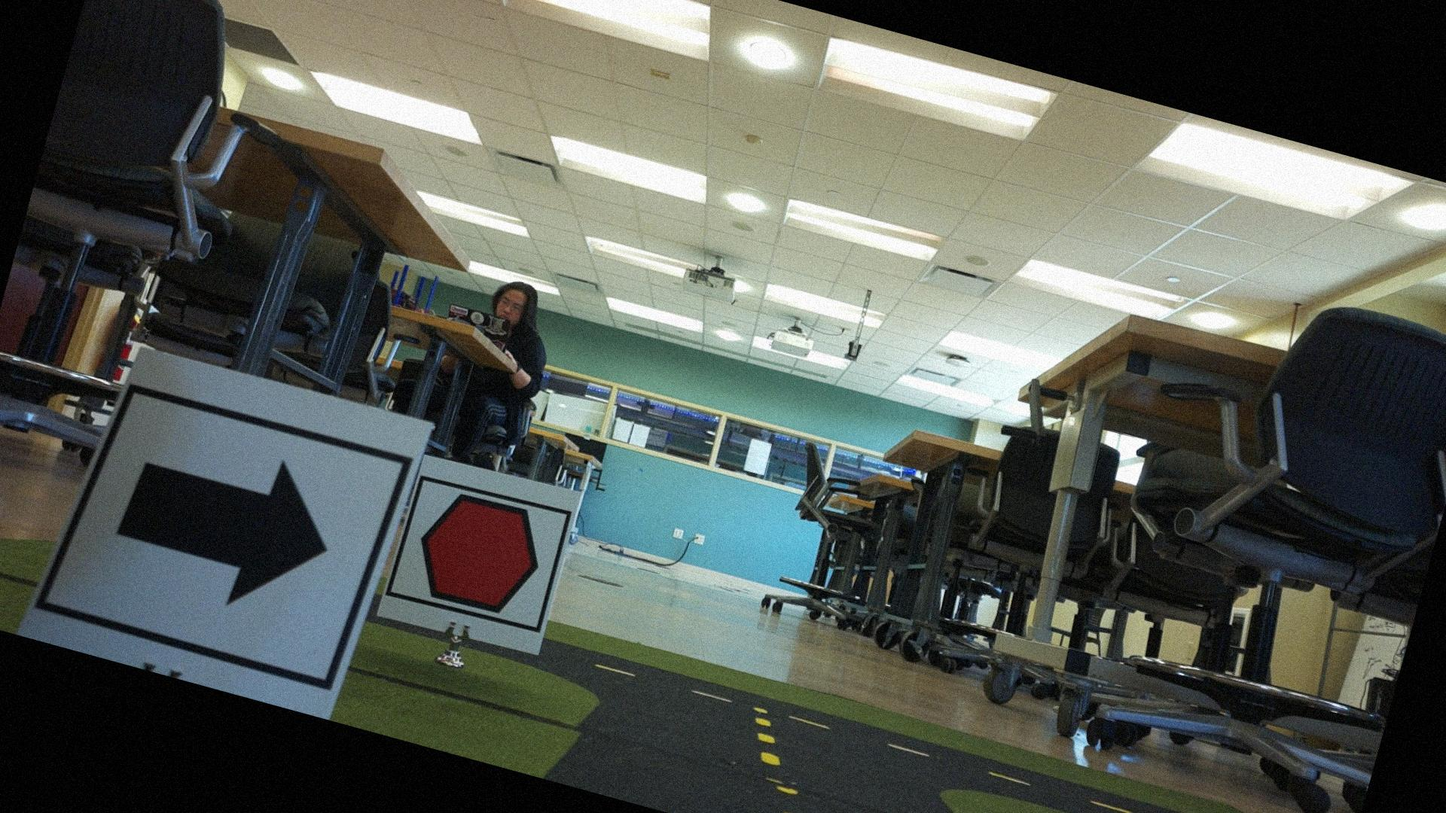stop: (392, 476, 566, 633)
turnright: (62, 388, 396, 689)
yellowline: (730, 714, 834, 812)
